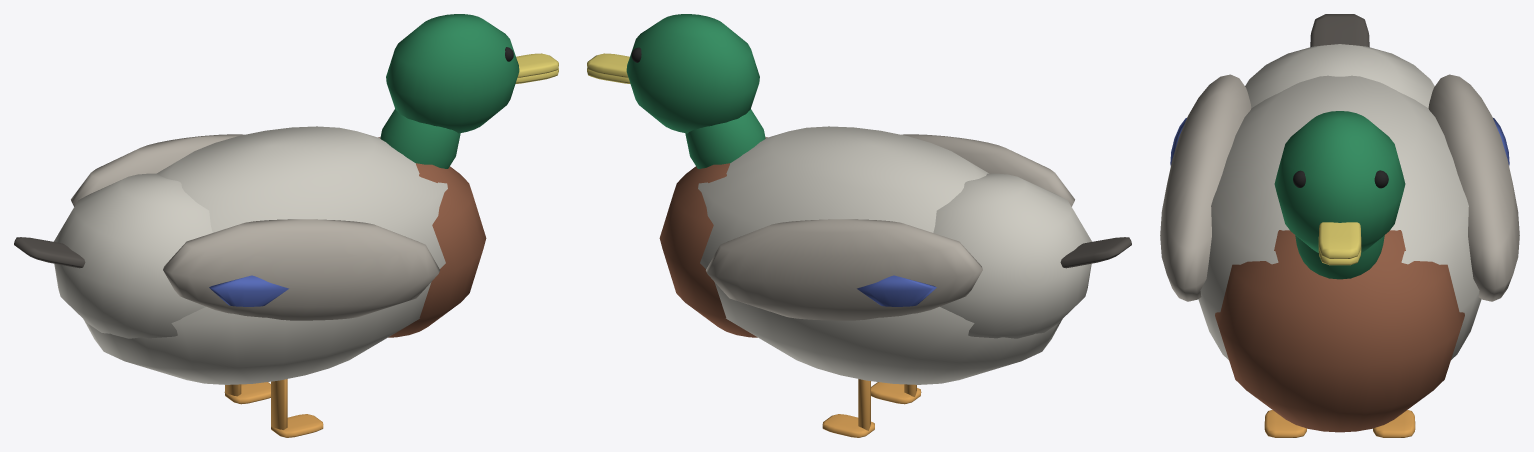
File: Duck.fbx
The picture shows the model from 3 angles, left to right: view 1: azimuth 30°, elevation 25°; view 2: azimuth 150°, elevation 25°; view 3: azimuth 270°, elevation 25°; orthographic projection. The views are drawn at different scales.
Parts seen in each view (by area): view 1: Duck:mallard_body, Duck:mallard_wing_L, Duck:mallard_rump, Duck:mallard_head, Duck:mallard_chest, Duck:mallard_wing_R, Duck:mallard_neck, Duck:mallard_speculum_L, Duck:mallard_tail, Duck:mallard_leg_L, Duck:mallard_bill, Duck:mallard_foot_L (+1 smaller); view 2: Duck:mallard_body, Duck:mallard_wing_R, Duck:mallard_rump, Duck:mallard_head, Duck:mallard_chest, Duck:mallard_wing_L, Duck:mallard_neck, Duck:mallard_speculum_R, Duck:mallard_tail, Duck:mallard_foot_R, Duck:mallard_bill, Duck:mallard_foot_L (+1 smaller); view 3: Duck:mallard_chest, Duck:mallard_body, Duck:mallard_head, Duck:mallard_wing_L, Duck:mallard_wing_R, Duck:mallard_rump, Duck:mallard_tail, Duck:mallard_neck, Duck:mallard_bill, Duck:mallard_foot_L, Duck:mallard_foot_R.
Boxes of the visible parts, <box> form: Duck:mallard_body: <box>83,126,447,384</box>; Duck:mallard_wing_L: <box>163,219,439,320</box>; Duck:mallard_rump: <box>54,173,212,338</box>; Duck:mallard_head: <box>386,14,519,133</box>; Duck:mallard_chest: <box>378,137,486,337</box>; Duck:mallard_wing_R: <box>71,134,244,206</box>; Duck:mallard_neck: <box>380,109,460,168</box>; Duck:mallard_speculum_L: <box>209,275,288,306</box>; Duck:mallard_tail: <box>14,237,85,268</box>; Duck:mallard_leg_L: <box>271,379,287,429</box>; Duck:mallard_bill: <box>516,53,558,77</box>; Duck:mallard_foot_L: <box>271,414,323,437</box>; Duck:mallard_body: <box>698,126,1062,384</box>; Duck:mallard_wing_R: <box>706,219,982,320</box>; Duck:mallard_rump: <box>933,173,1091,338</box>; Duck:mallard_head: <box>626,14,759,133</box>; Duck:mallard_chest: <box>659,137,767,337</box>; Duck:mallard_wing_L: <box>901,134,1074,206</box>; Duck:mallard_neck: <box>685,109,765,168</box>; Duck:mallard_speculum_R: <box>857,275,936,306</box>; Duck:mallard_tail: <box>1060,237,1131,268</box>; Duck:mallard_foot_R: <box>822,414,874,437</box>; Duck:mallard_bill: <box>587,53,629,77</box>; Duck:mallard_foot_L: <box>871,382,921,404</box>; Duck:mallard_chest: <box>1215,230,1464,432</box>; Duck:mallard_body: <box>1198,75,1481,359</box>; Duck:mallard_head: <box>1274,111,1405,252</box>; Duck:mallard_wing_L: <box>1160,74,1251,301</box>; Duck:mallard_wing_R: <box>1428,74,1519,301</box>; Duck:mallard_rump: <box>1245,44,1434,107</box>; Duck:mallard_tail: <box>1310,14,1369,47</box>; Duck:mallard_neck: <box>1295,235,1384,279</box>; Duck:mallard_bill: <box>1318,222,1361,258</box>; Duck:mallard_foot_L: <box>1264,410,1306,437</box>; Duck:mallard_foot_R: <box>1373,410,1415,437</box>.
Size of the model in its own units: 5.09 by 3.18 by 2.53.
